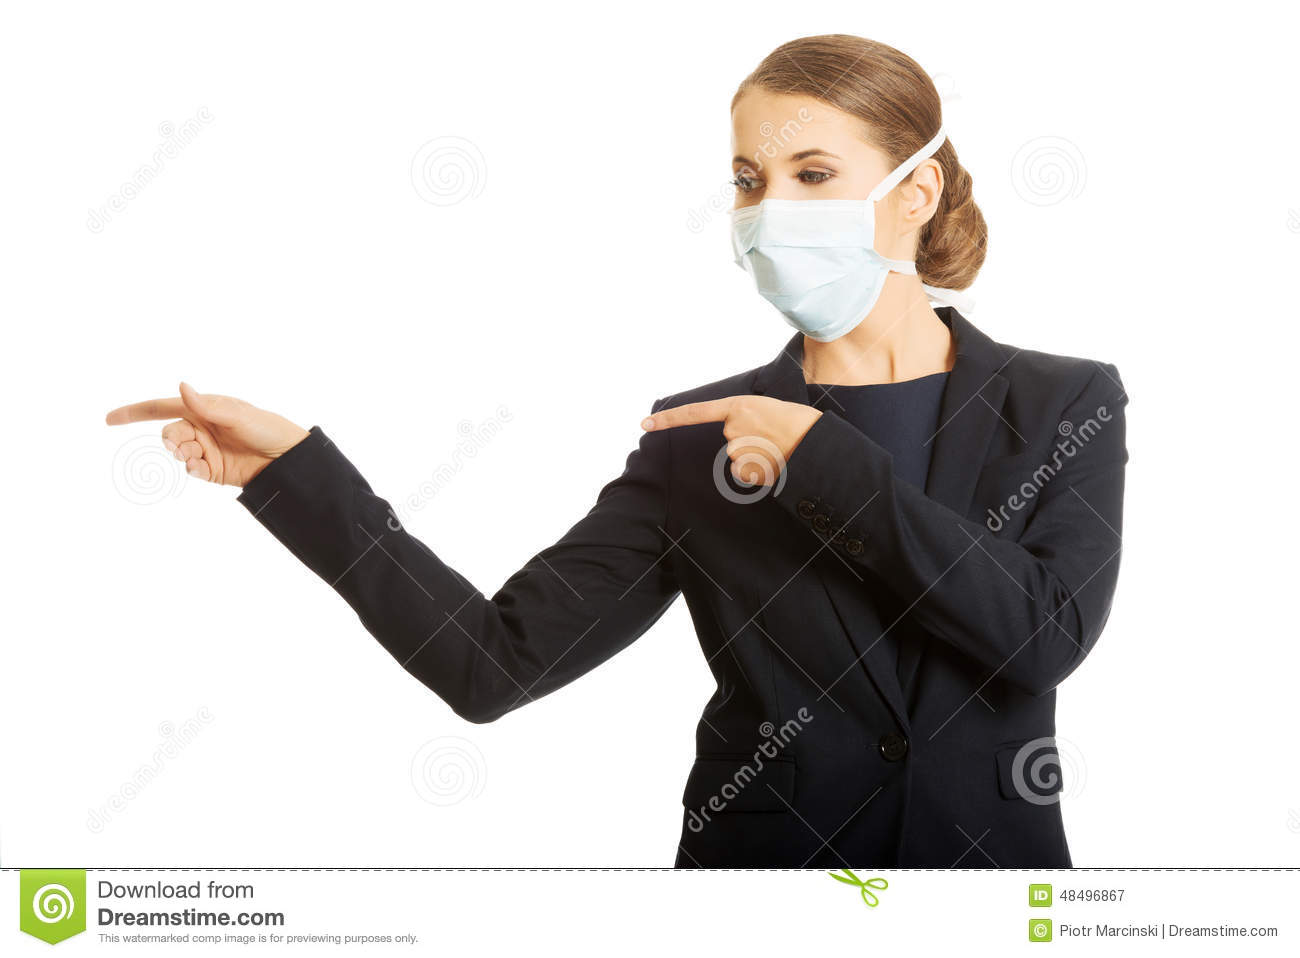mask: (729, 202, 888, 342)
